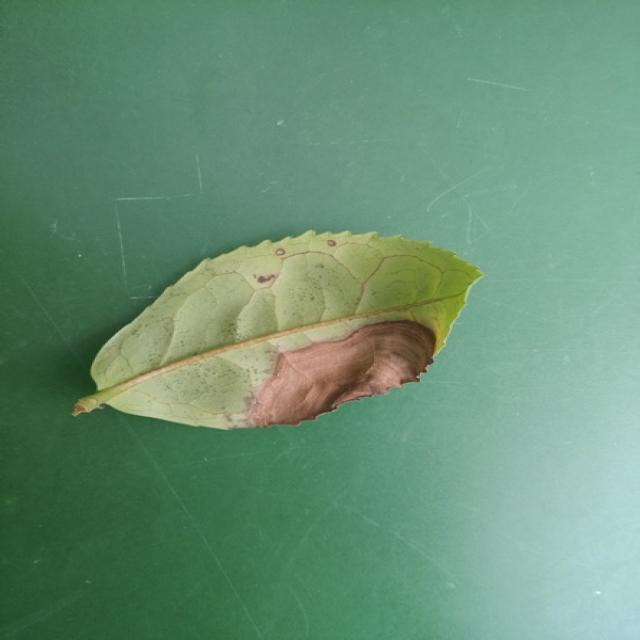Tea cloud leaf blight: (249, 322, 449, 422)
